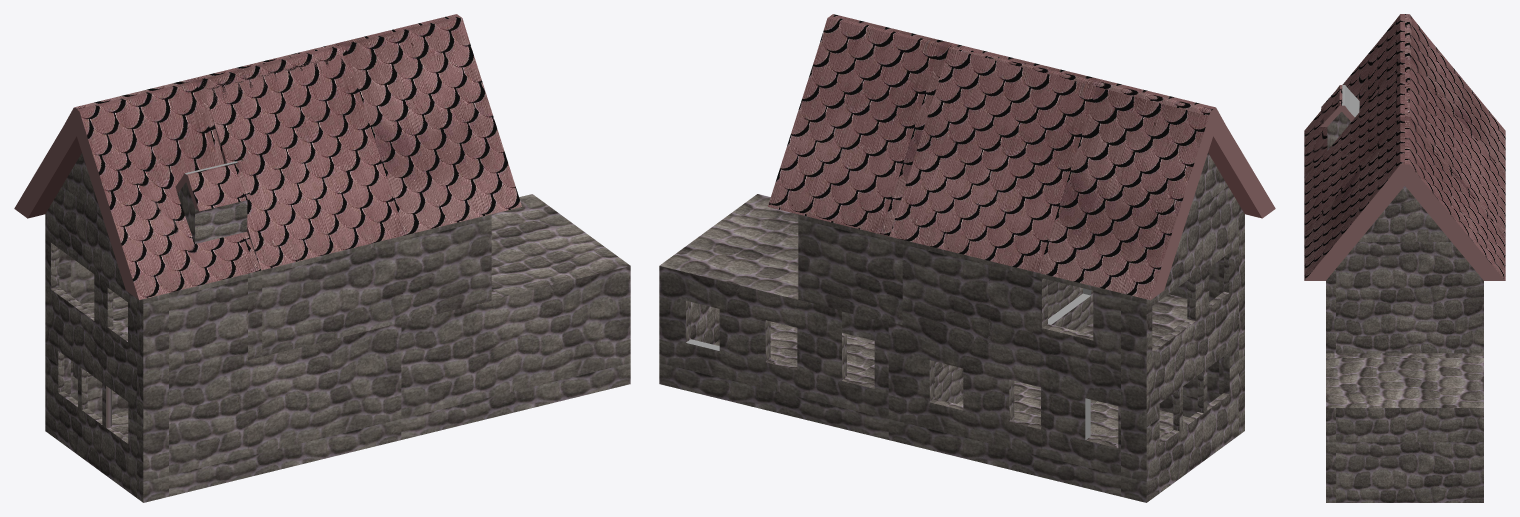
The model's file is Building 5.fbx.
The picture shows the model from 3 angles, left to right: view 1: azimuth 30°, elevation 25°; view 2: azimuth 150°, elevation 25°; view 3: azimuth 270°, elevation 25°; orthographic projection. The views are drawn at different scales.
Visible parts, largest first — view 1: polySurface43, polySurface41, polySurface40, polySurface42; view 2: polySurface41, polySurface40, polySurface42, polySurface43; view 3: polySurface43, polySurface42, polySurface41.
Boxes of the visible parts, x1,y1,x2,y2 form: polySurface43: (203,14,521,359); polySurface41: (14,44,344,385); polySurface40: (45,295,387,502); polySurface42: (387,194,630,443); polySurface41: (889,44,1275,384); polySurface40: (903,294,1244,502); polySurface42: (659,194,963,443); polySurface43: (768,14,1093,346); polySurface43: (1304,66,1505,353); polySurface42: (1326,353,1483,502); polySurface41: (1304,14,1505,232).
Size of the model in its own units: 429 by 294 by 184.
